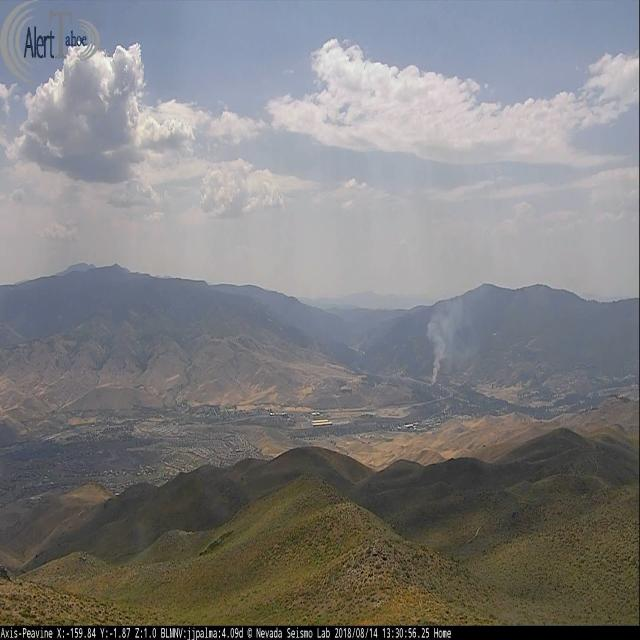smoke: (426, 299, 466, 385)
